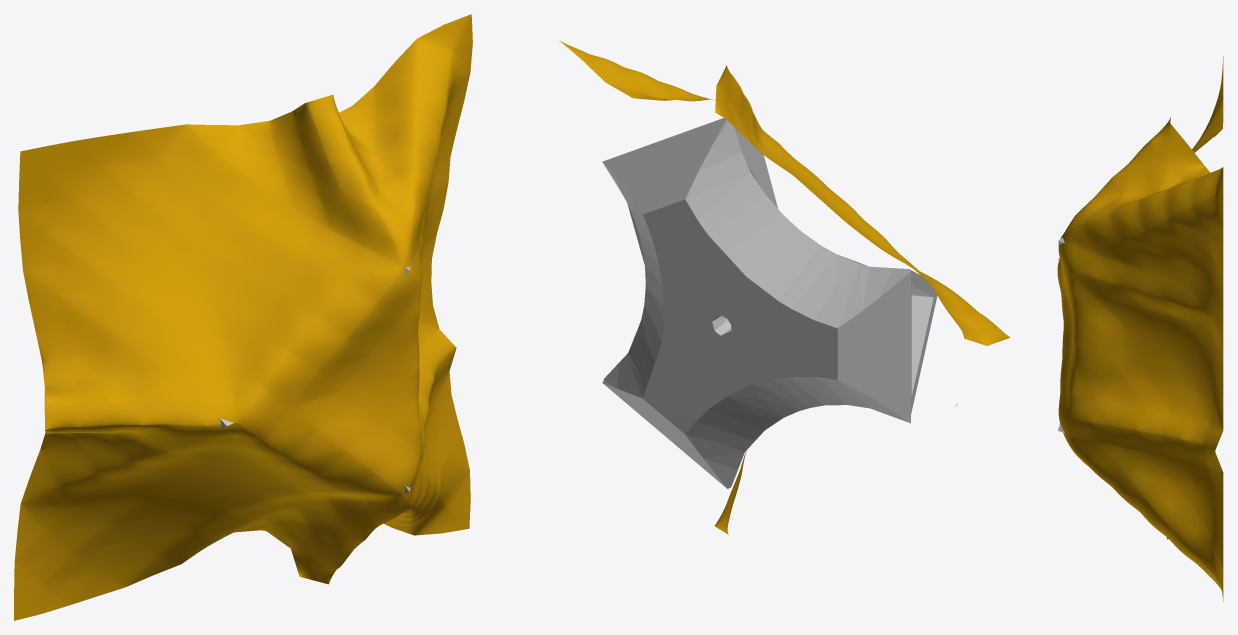
Rendered from udnn.glb.
3 renders of one model, left to right at view 1: azimuth 30°, elevation 25°; view 2: azimuth 150°, elevation 25°; view 3: azimuth 270°, elevation 25°, orthographic. The views are drawn at different scales.
Parts seen in each view (by area): view 1: level_4.ply; view 2: object.obj, level_4.ply; view 3: level_4.ply.
Part boxes in pixels (x1,y1,x2,y2): level_4.ply: (14,14,472,620); object.obj: (602,118,937,488); level_4.ply: (559,40,1010,535); level_4.ply: (1057,56,1223,601).
Size of the model in its own units: 0.5333 by 0.5487 by 0.1867.
